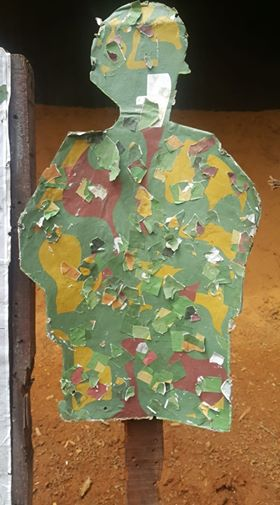Bullet: (19, 222, 25, 231), (103, 407, 108, 412), (174, 12, 178, 18), (71, 390, 76, 394)
